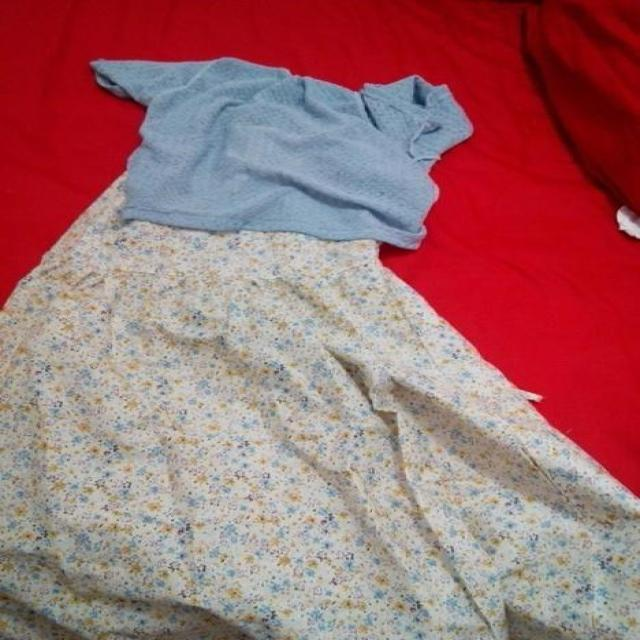sling dress: (0, 88, 640, 640)
